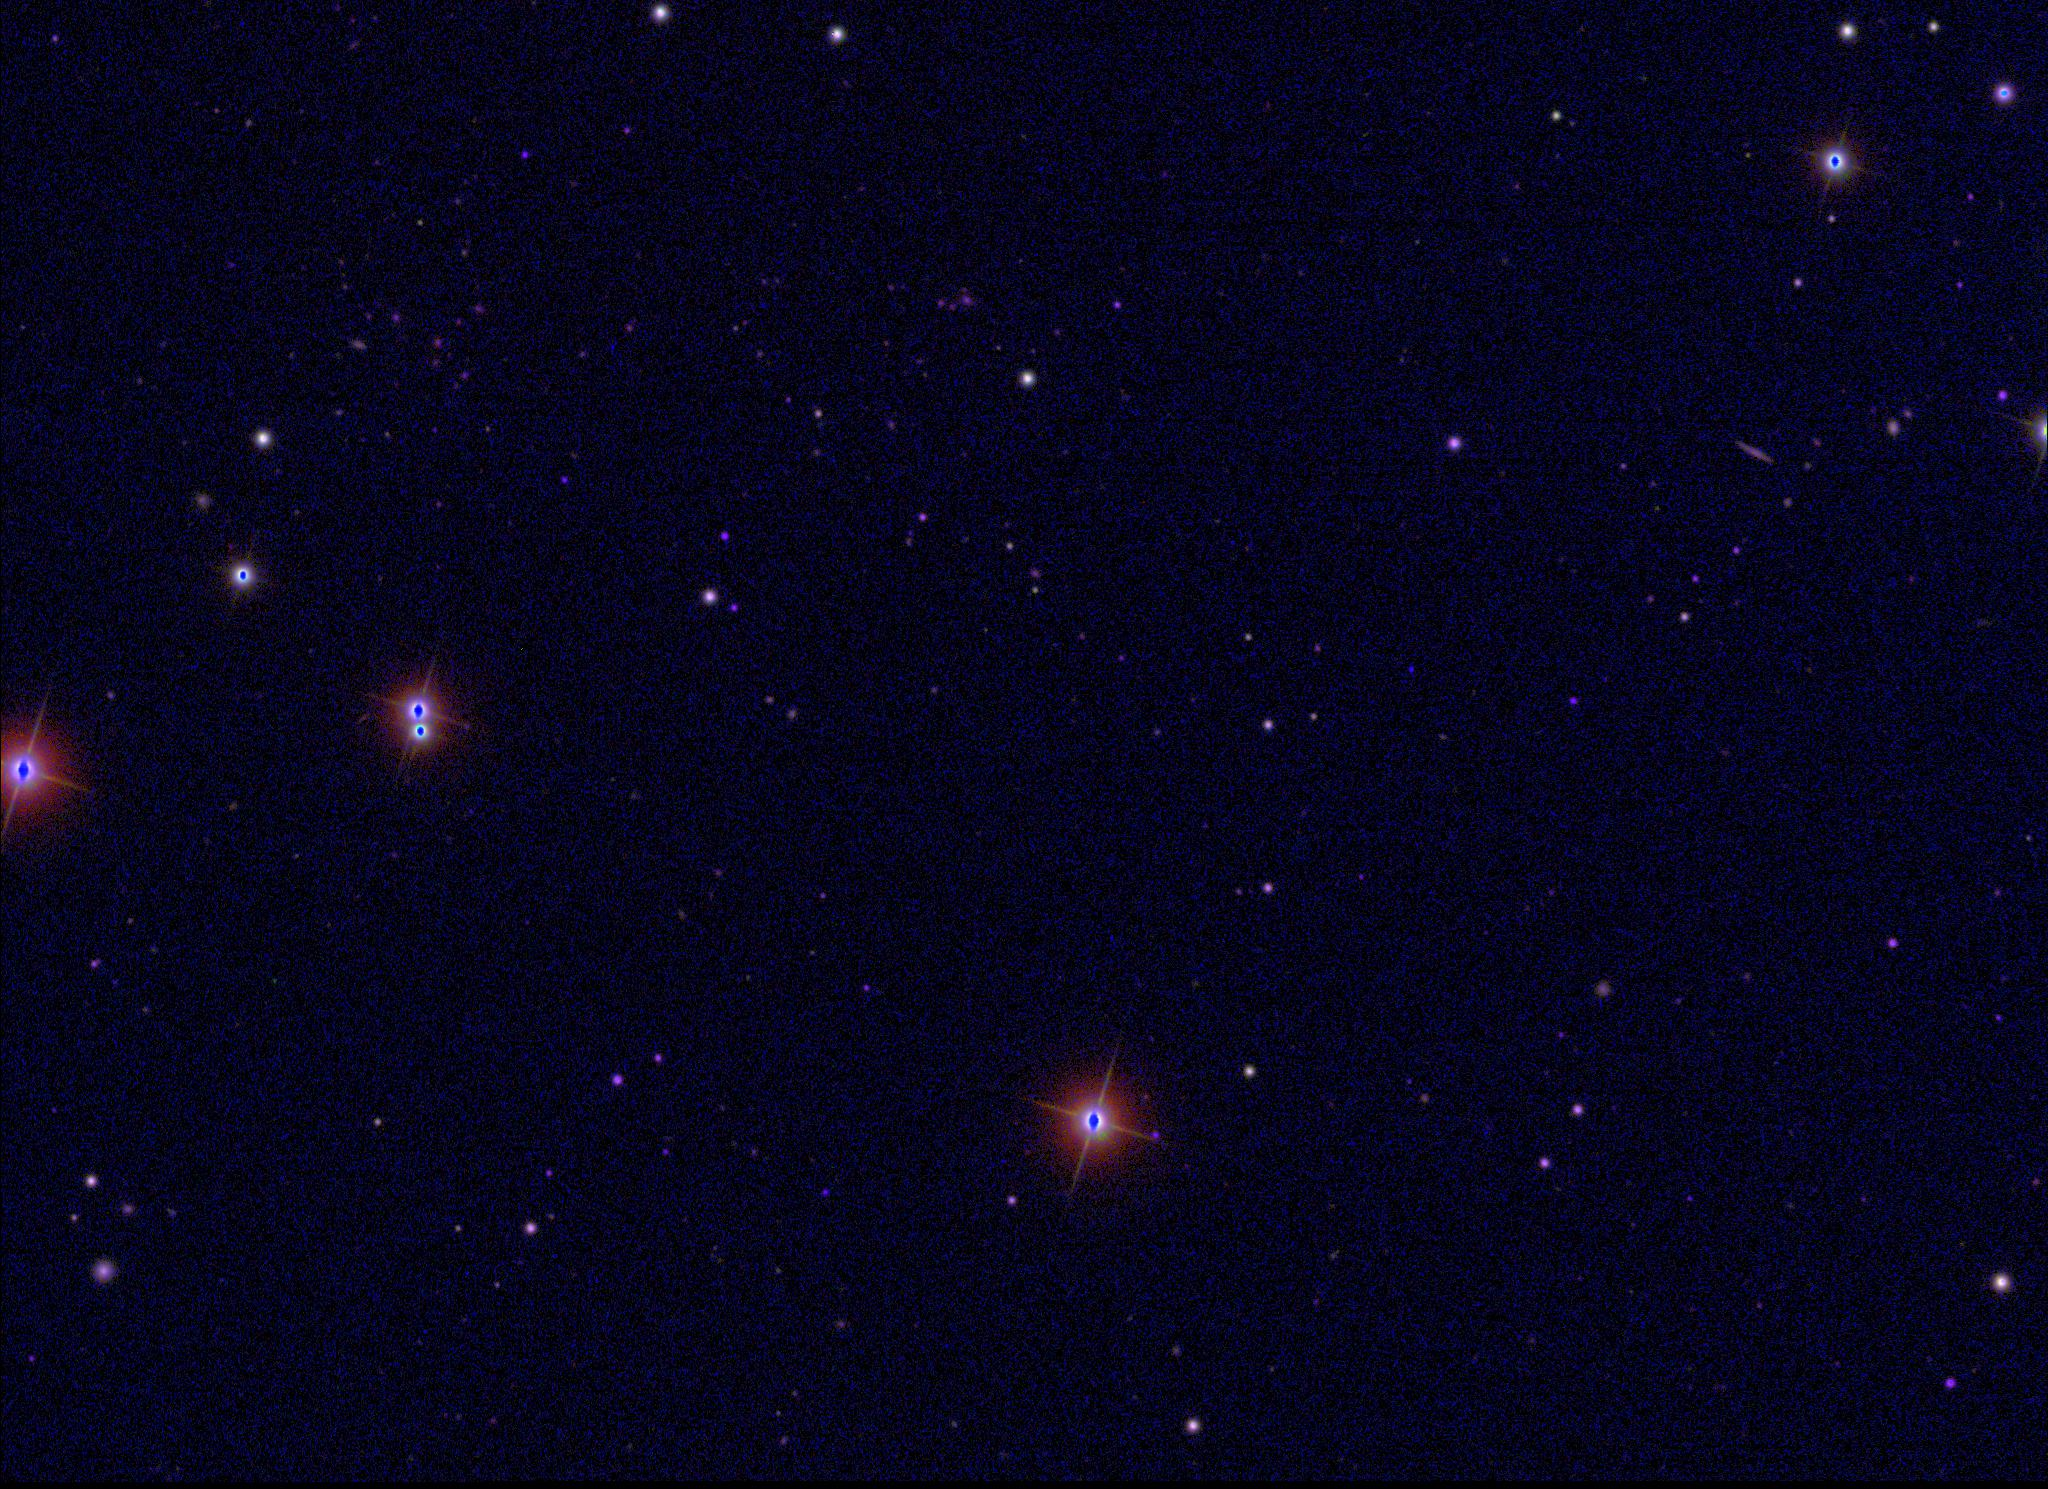L: (1406, 663, 1418, 678)
